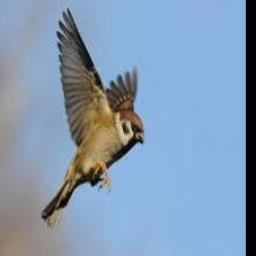Sparrow: (42, 8, 144, 231)
